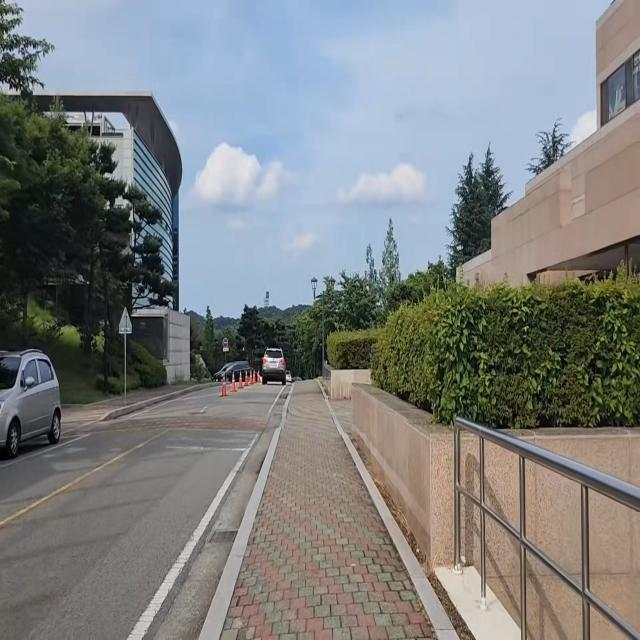obstacle: (1, 333, 70, 467), (251, 342, 288, 387)
road: (0, 381, 292, 640)
sidewalk: (198, 378, 464, 640)
